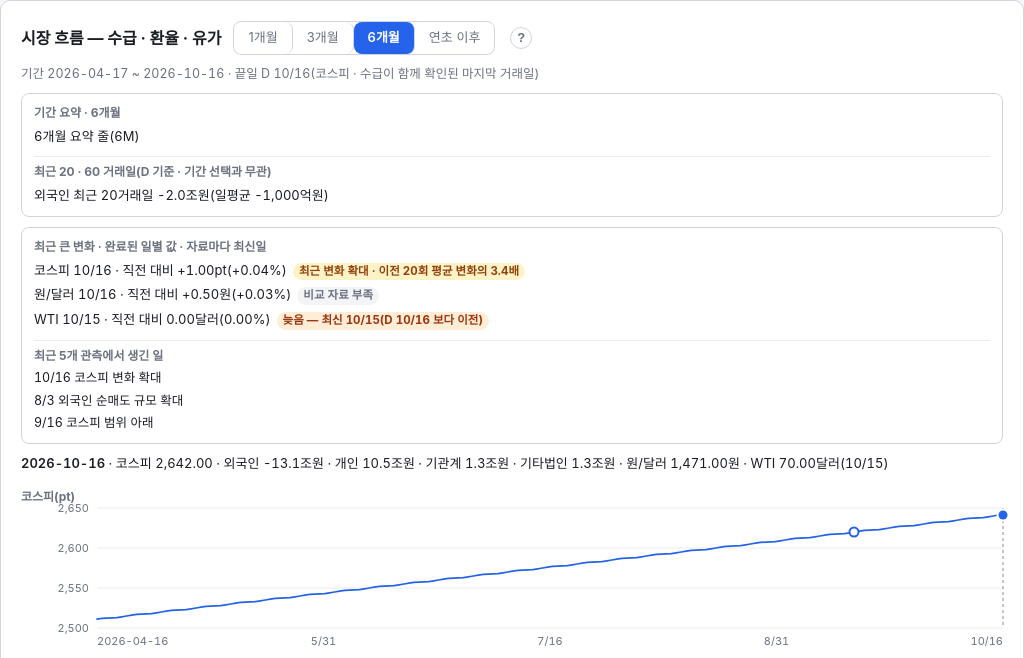
Test: 「요즘 잘 오르는 ETF」 시장 흐름 카드 › 사건 표시 점은 기간 경계 뒤만 · 1개월로 줄이면 8/3 수급 · 경계일(9/16) 코스피 사건 점은 사라진다
Check: the text "6개월 요약 줄(6M)" is shown, box [34,128,140,144]
Check: the element with test id "mf-chart-kospi-mark-kospi-2026-10-16" is shown, box [998,509,1008,520]
Click the button "1개월" at {"x": 264, "y": 38}, box [234,22,293,54]
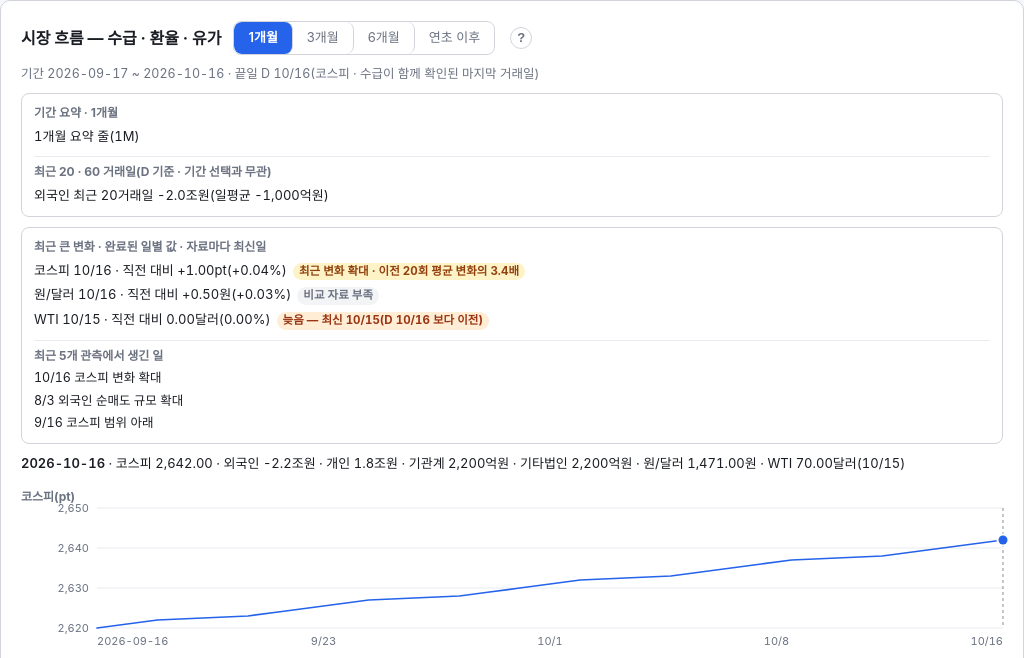
Check: the element with test id "mf-chart-kospi-mark-kospi-2026-10-16" is shown, box [998,535,1008,546]
Check: the element with test id "mf-chart-kospi-mark-kospi-2026-09-16" is gone
